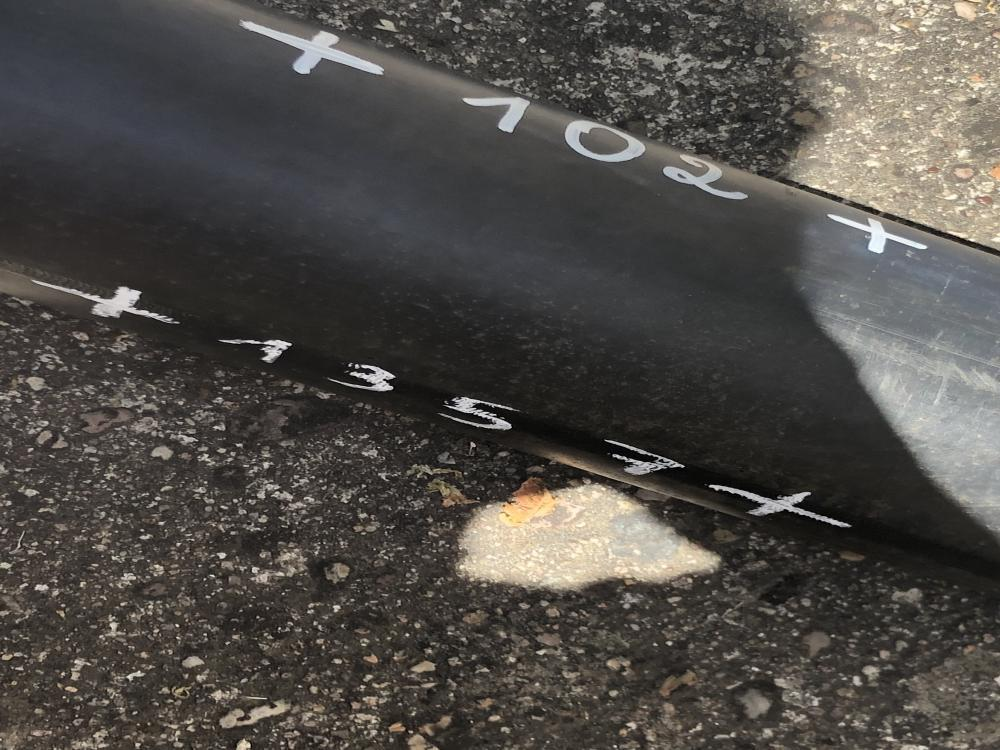+: (238, 17, 388, 78), (703, 481, 857, 530), (26, 278, 183, 326), (825, 212, 931, 256)
0: (563, 119, 649, 164)
1: (456, 94, 534, 136), (214, 336, 296, 366)
2: (662, 153, 753, 201)
3: (318, 360, 394, 392)
5: (437, 394, 518, 432)
7: (600, 436, 686, 476)
